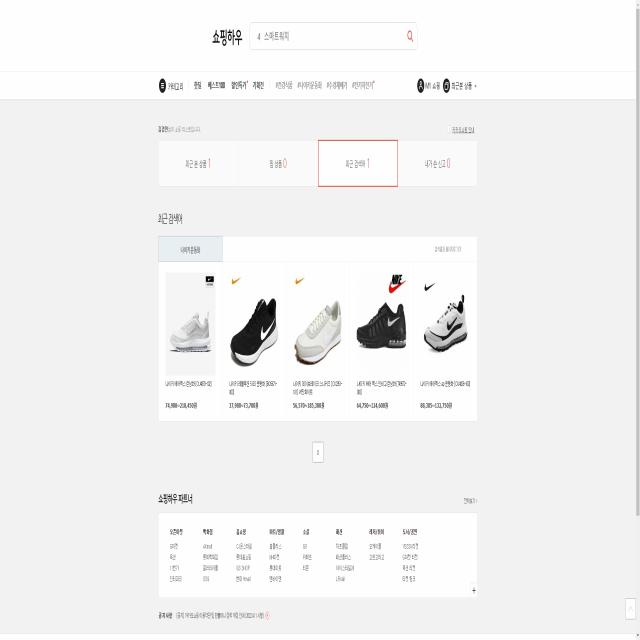menu-bar: (414, 72, 484, 101)
search: (246, 15, 418, 54)
tab-bar: (158, 135, 480, 192), (154, 71, 376, 99)
